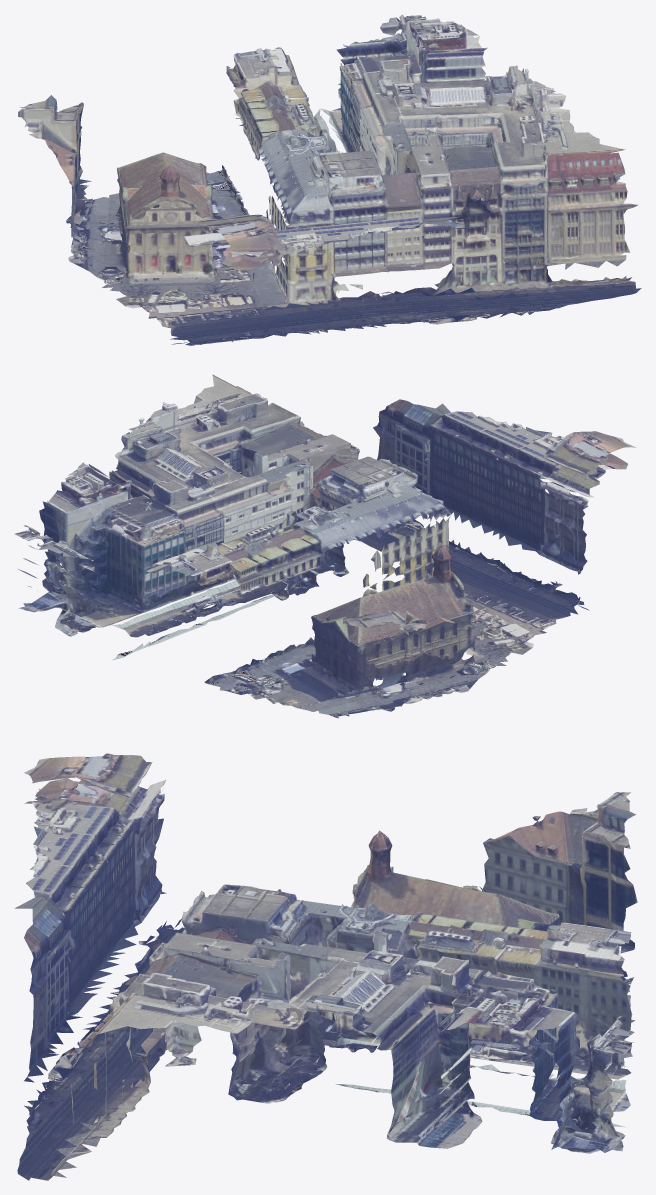
3 views of the same model, one above another, from view 1: azimuth 30°, elevation 25°; view 2: azimuth 150°, elevation 25°; view 3: azimuth 270°, elevation 25° (orthographic). The views are drawn at different scales.
Size of the model in its own units: 110 by 35.01 by 107.
Materials: 1 (1 with a texture image).
